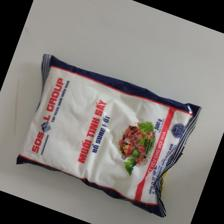Salt: (16, 54, 202, 218)
